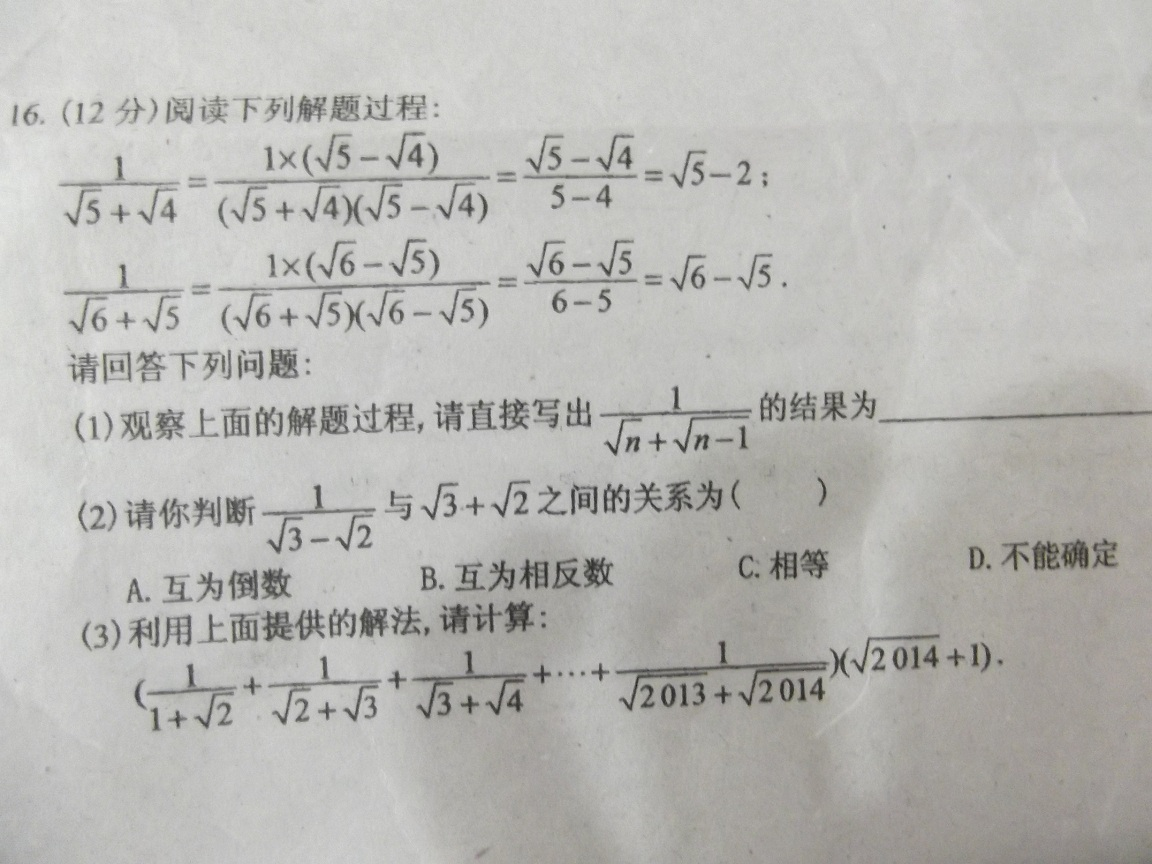division: (612, 657, 834, 680), (211, 171, 489, 186), (215, 278, 492, 292), (595, 404, 757, 422), (269, 673, 388, 697), (408, 671, 533, 688), (260, 506, 378, 523), (518, 169, 640, 185), (56, 178, 182, 191), (62, 284, 194, 296), (521, 275, 639, 287), (150, 687, 239, 698)
sqrt: (849, 633, 944, 676), (676, 411, 760, 454), (746, 663, 830, 703), (630, 677, 717, 710), (524, 121, 570, 173), (673, 242, 715, 298), (492, 479, 548, 519), (146, 286, 186, 340), (418, 675, 466, 720), (425, 476, 468, 524), (384, 128, 432, 170), (341, 511, 389, 552), (340, 680, 385, 722), (321, 126, 360, 174), (68, 185, 112, 227), (74, 291, 114, 337), (140, 185, 180, 230), (598, 127, 637, 173), (396, 235, 435, 280), (742, 244, 776, 294), (265, 519, 310, 556), (526, 235, 565, 277), (672, 146, 709, 190), (594, 239, 636, 277), (199, 691, 239, 730), (308, 286, 346, 327), (370, 286, 408, 327), (239, 286, 272, 331), (439, 290, 484, 322), (616, 413, 647, 457), (284, 685, 311, 732), (322, 240, 356, 277), (489, 677, 526, 710)
